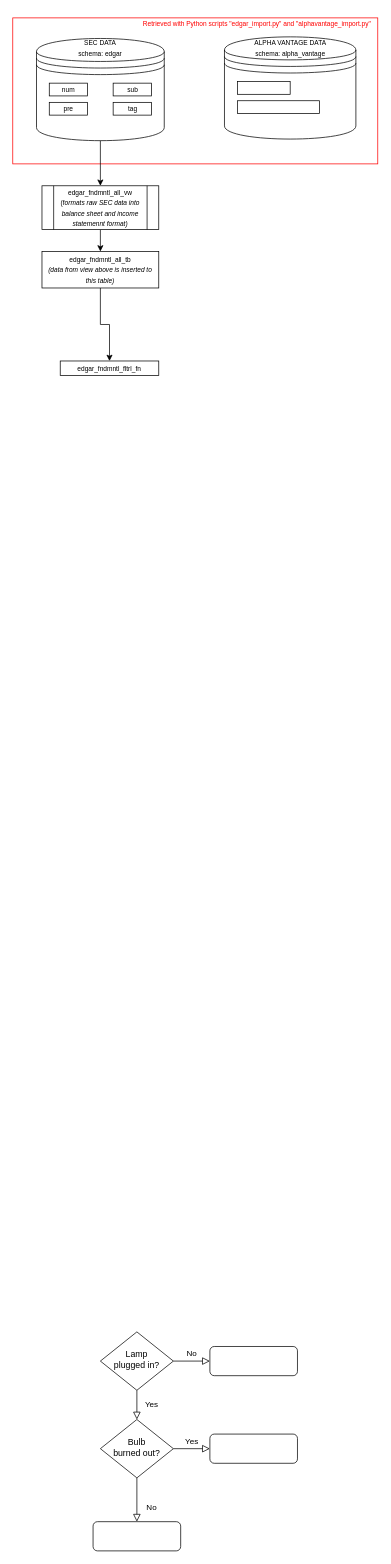
Image size: 391x1564. Some labels were removed from this diagram. The centre of each missing label's shape, as x and y in pixels:
active_delisted: the point at 263,87
Plug in lamp: the point at 253,1361
Repair Lamp: the point at 136,1536
Replace Bulb: the point at 253,1448
shareprices_daily: the point at 278,107
